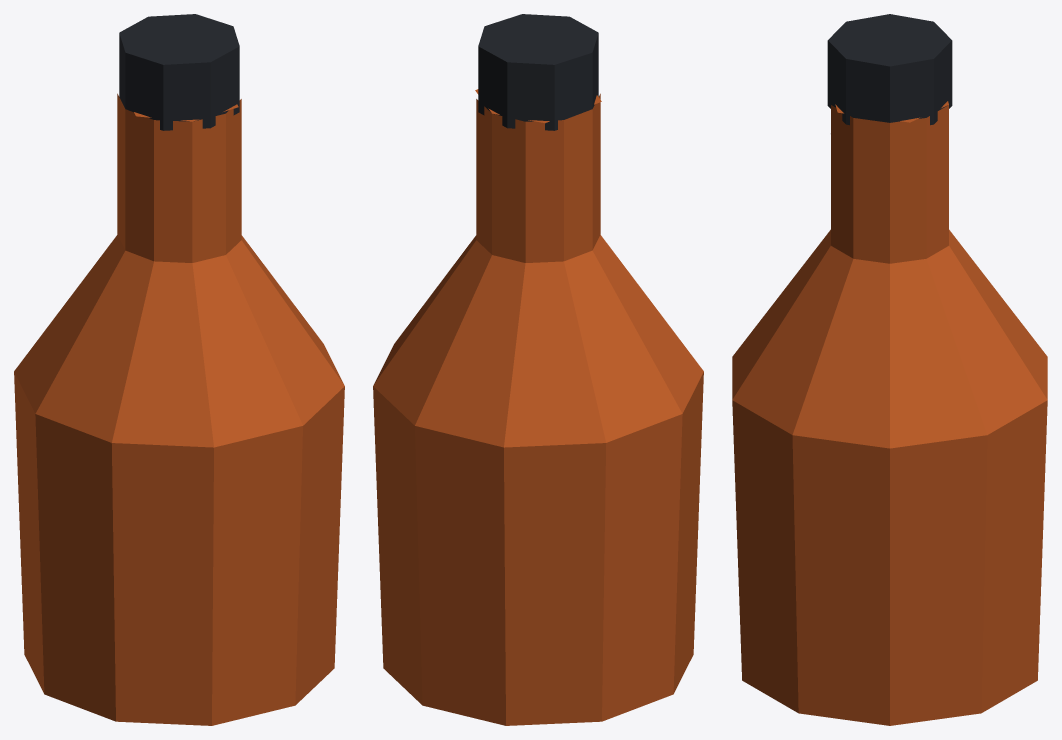
File: deuterium-pyro.lod.glb
3 views of the same model, side by side, from view 1: azimuth 30°, elevation 25°; view 2: azimuth 150°, elevation 25°; view 3: azimuth 270°, elevation 25° (orthographic).
Parts seen in each view (by area): view 1: m; view 2: m; view 3: m.
Part boxes in pixels (x1,y1,x2,y2): m: (14,14,344,725); m: (373,14,703,725); m: (732,14,1047,725).
Bounding box in the file's own units: 0.064 × 0.132 × 0.0609.
